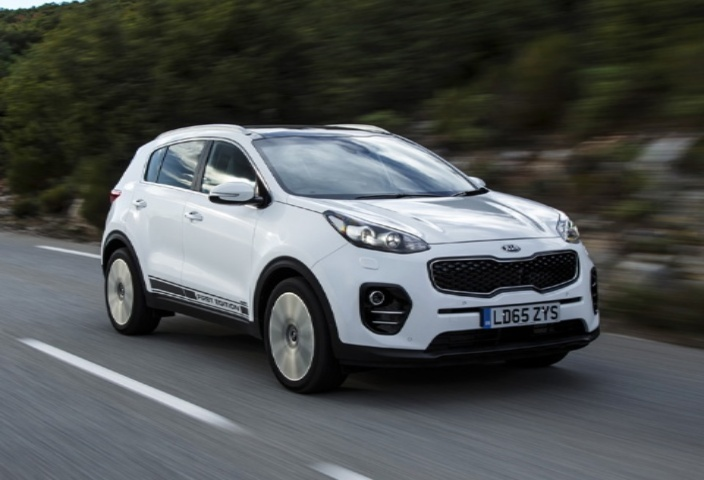camper: (87, 91, 612, 403)
